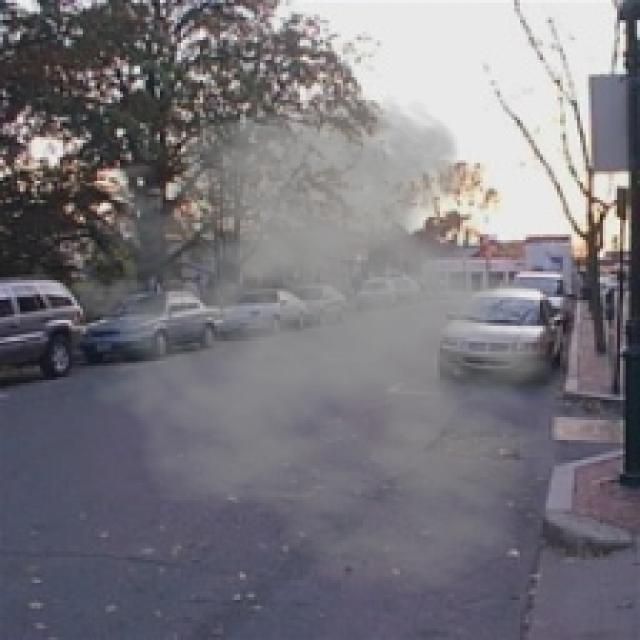Smoke: (48, 82, 603, 598)
